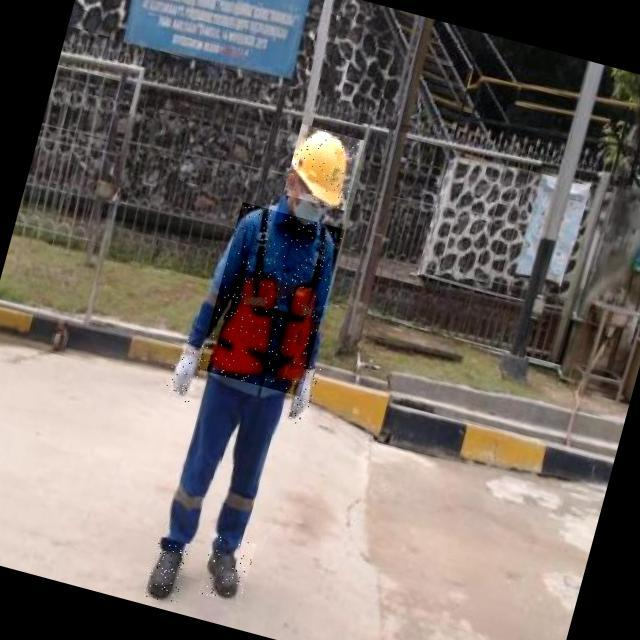Gloves: (278, 355, 326, 426), (163, 339, 214, 403)
Helmet: (283, 124, 366, 212)
Person: (124, 108, 389, 623)
Safety Boot: (197, 533, 256, 605), (144, 536, 193, 605)
Safety Vest: (198, 202, 345, 397)
